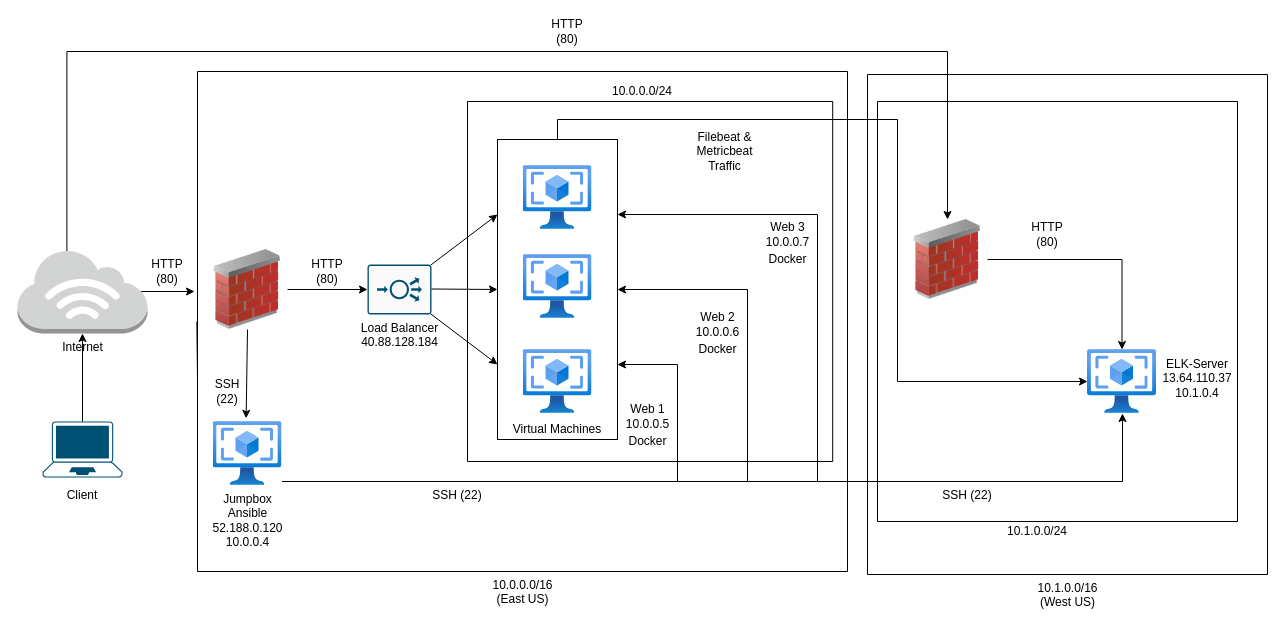
Some shapes in this 1285 by 628 pixel diagram are drawn without their labels. The centre of each missing label's shape, as x and y in pixels:
"ELK-Server Security Group" belongs at [947,259].
"RedTeam Security Group" belongs at [247,289].
